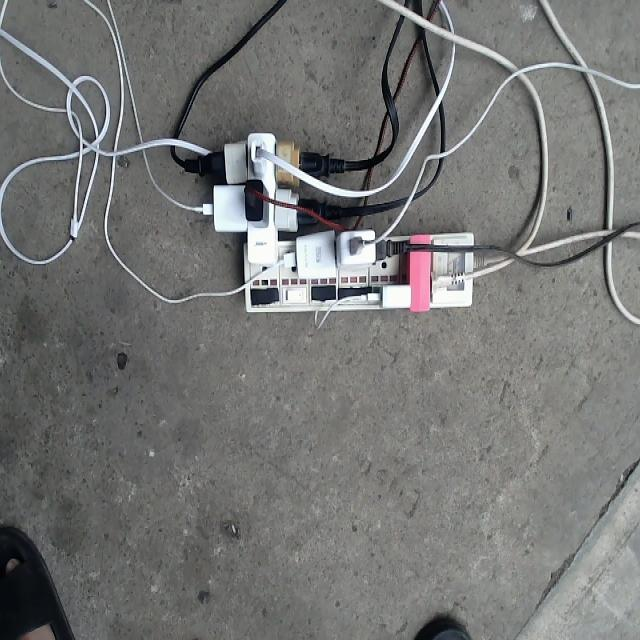-: (180, 132, 474, 312)
